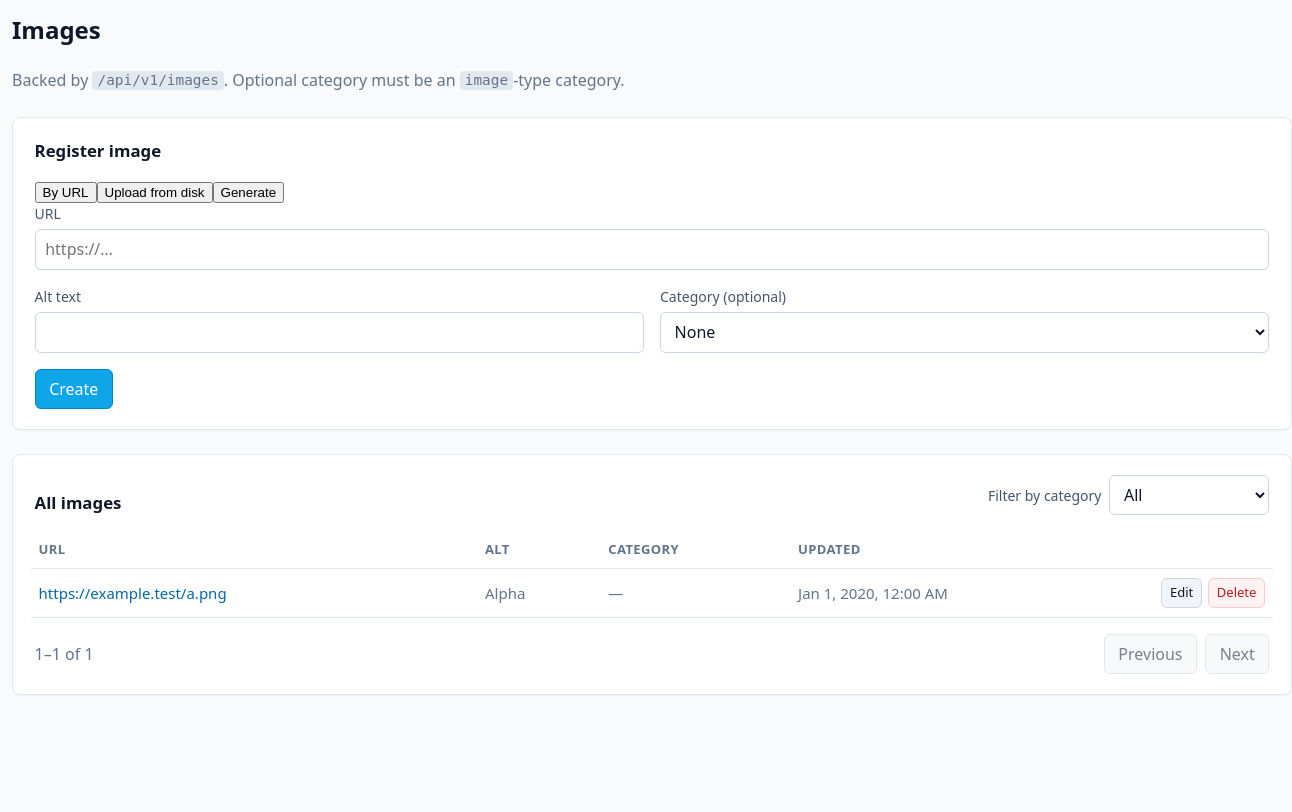
Test case: ImagesPage inline edit › shows client-side validation when URL is empty on save
Expected: the link "https://example.test/a.png" is shown, [39,583,227,603]
Click the button "Edit" at (1182, 593), box [1161,578,1202,608]
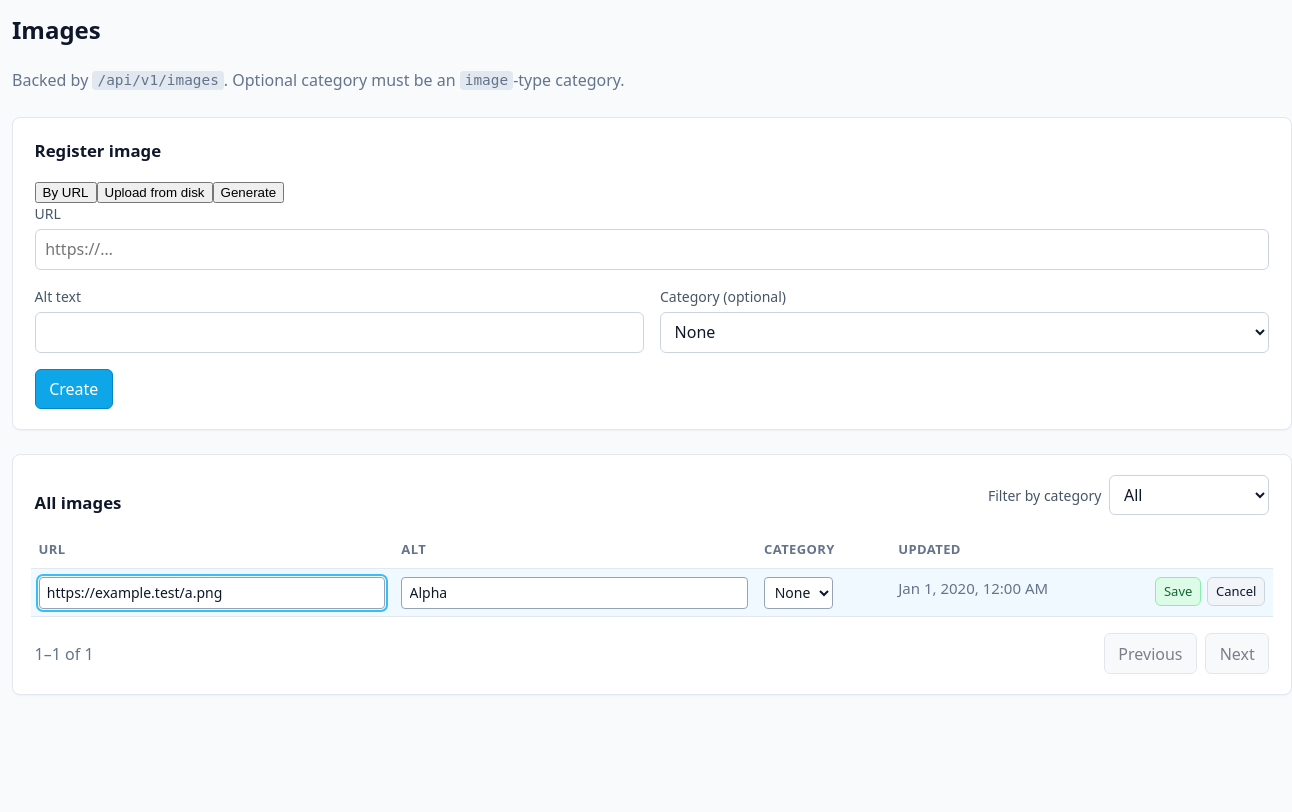
Clear the field named "url —" at (212, 593), box [39,577,385,609]
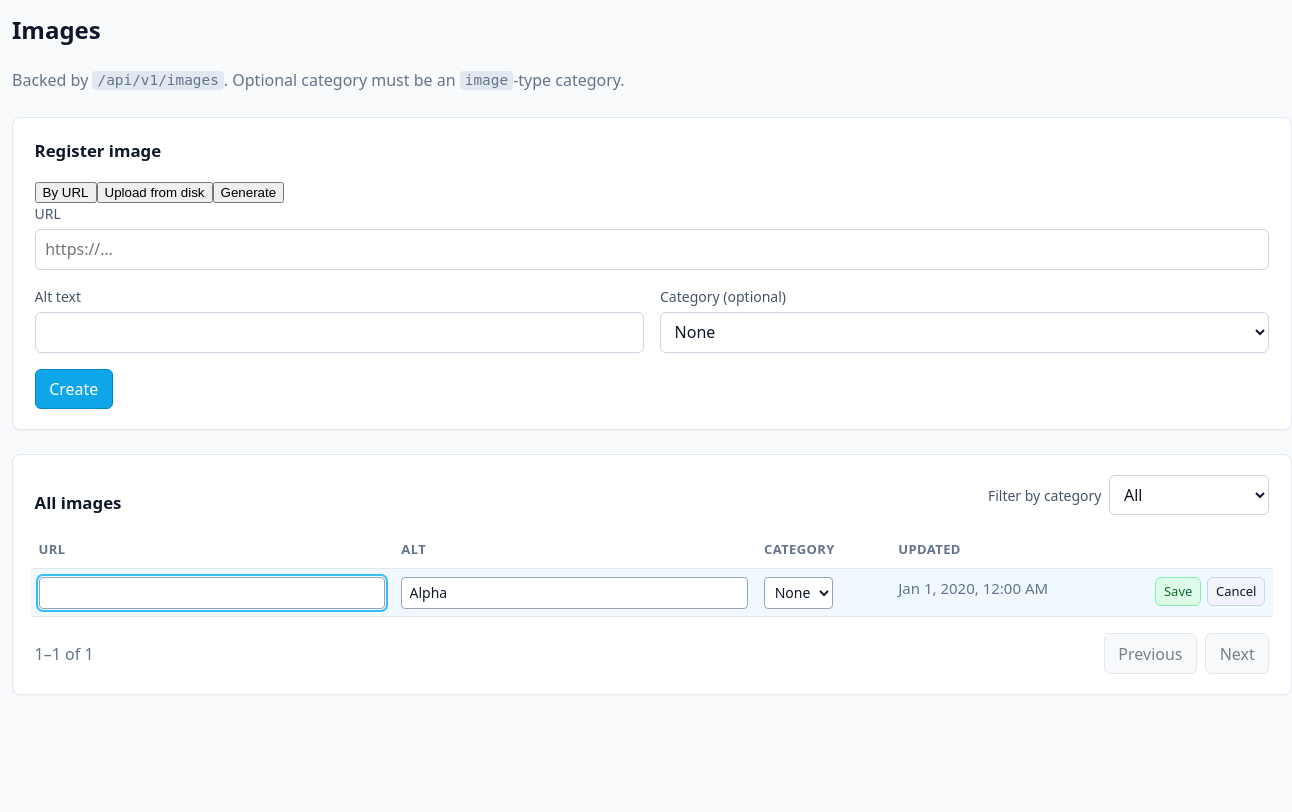
Click the button with aria-label "save changes for image" at (1178, 591), box [1155,577,1201,606]
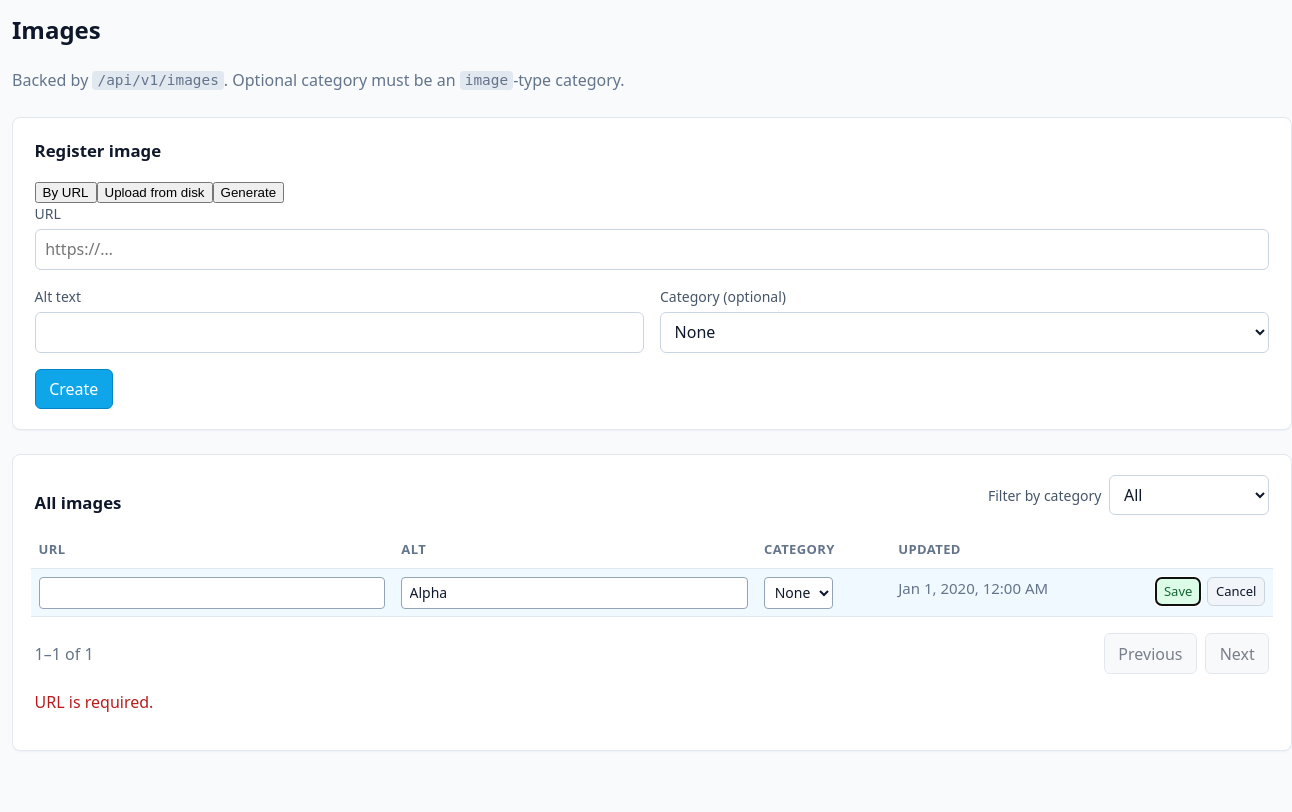
Result: the text "URL is required." is shown at [35,691,153,713]
